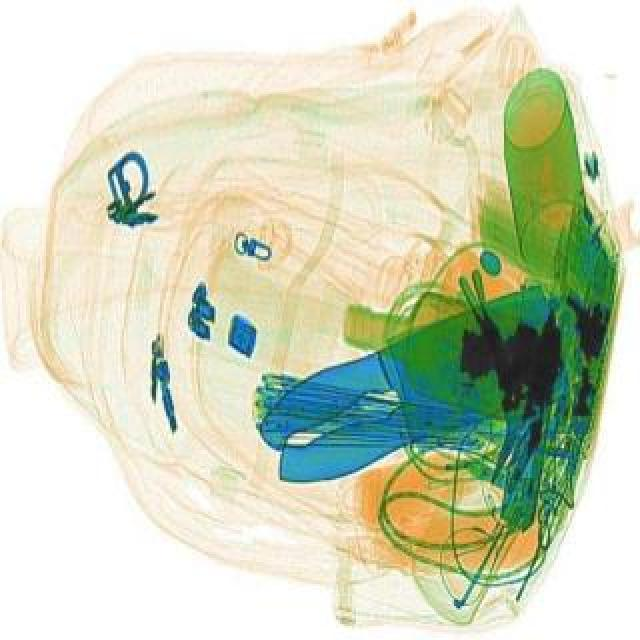knife: (242, 278, 590, 506), (240, 276, 582, 494)
